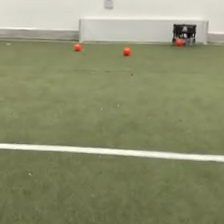ball: (72, 42, 82, 51), (121, 46, 131, 55), (175, 38, 183, 46)
goal: (77, 17, 210, 47)
robot: (172, 22, 197, 47)
